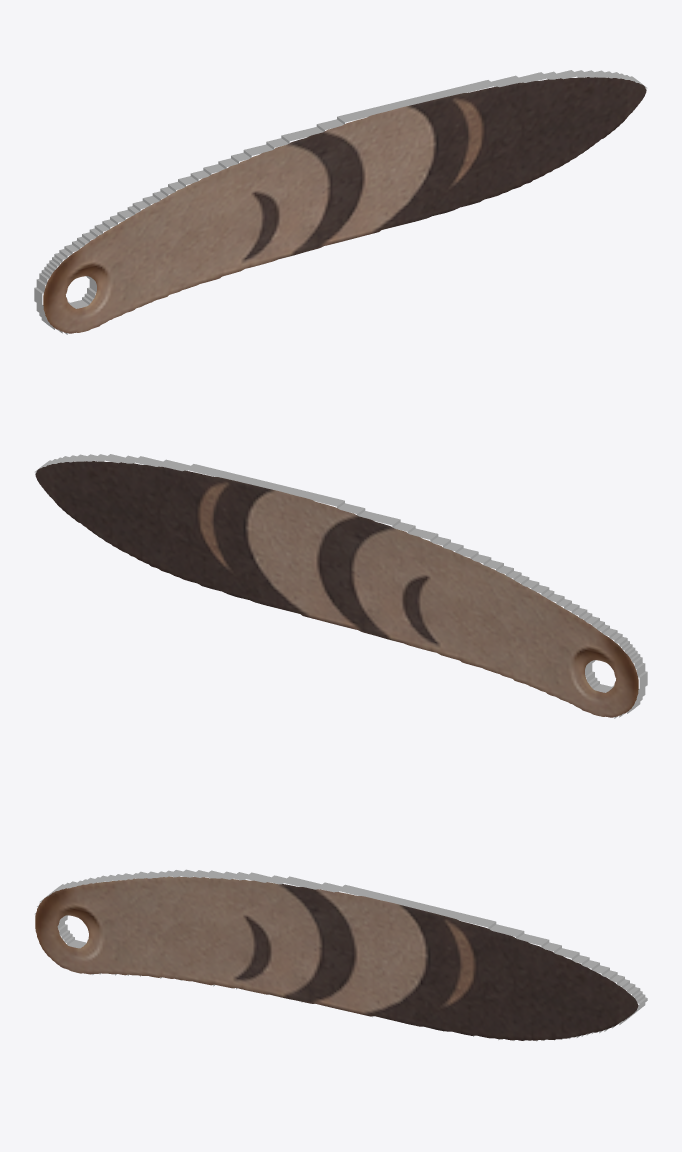
File: FlightRight01.glb
3 views of the same model, one above another, from view 1: azimuth 30°, elevation 25°; view 2: azimuth 150°, elevation 25°; view 3: azimuth 330°, elevation 25° (orthographic).
Visible parts, largest first — view 1: PaperVolume; view 2: PaperVolume; view 3: PaperVolume.
Part boxes in pixels (box(x1,y1,x2,y2)): PaperVolume: box(34, 70, 647, 334); PaperVolume: box(34, 454, 647, 718); PaperVolume: box(34, 869, 647, 1041).
Size of the model in its own units: 3.66 by 1.04 by 0.08.
Materials: 3 (2 with a texture image).
